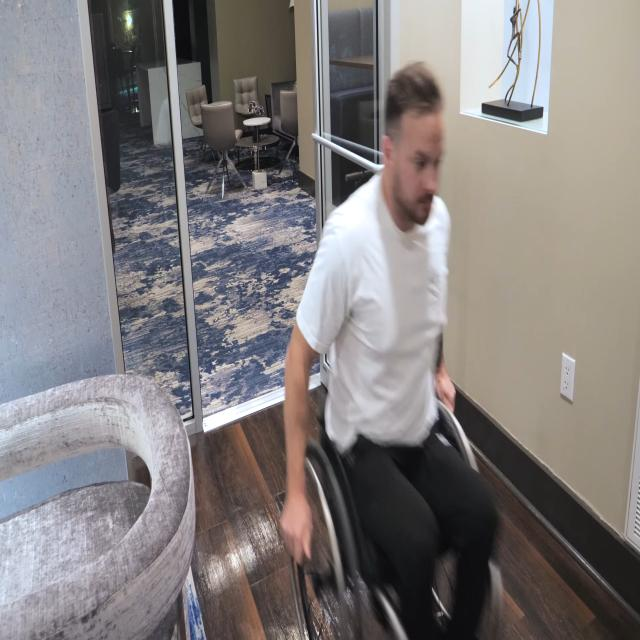wheelchairs: (287, 319, 504, 640)
